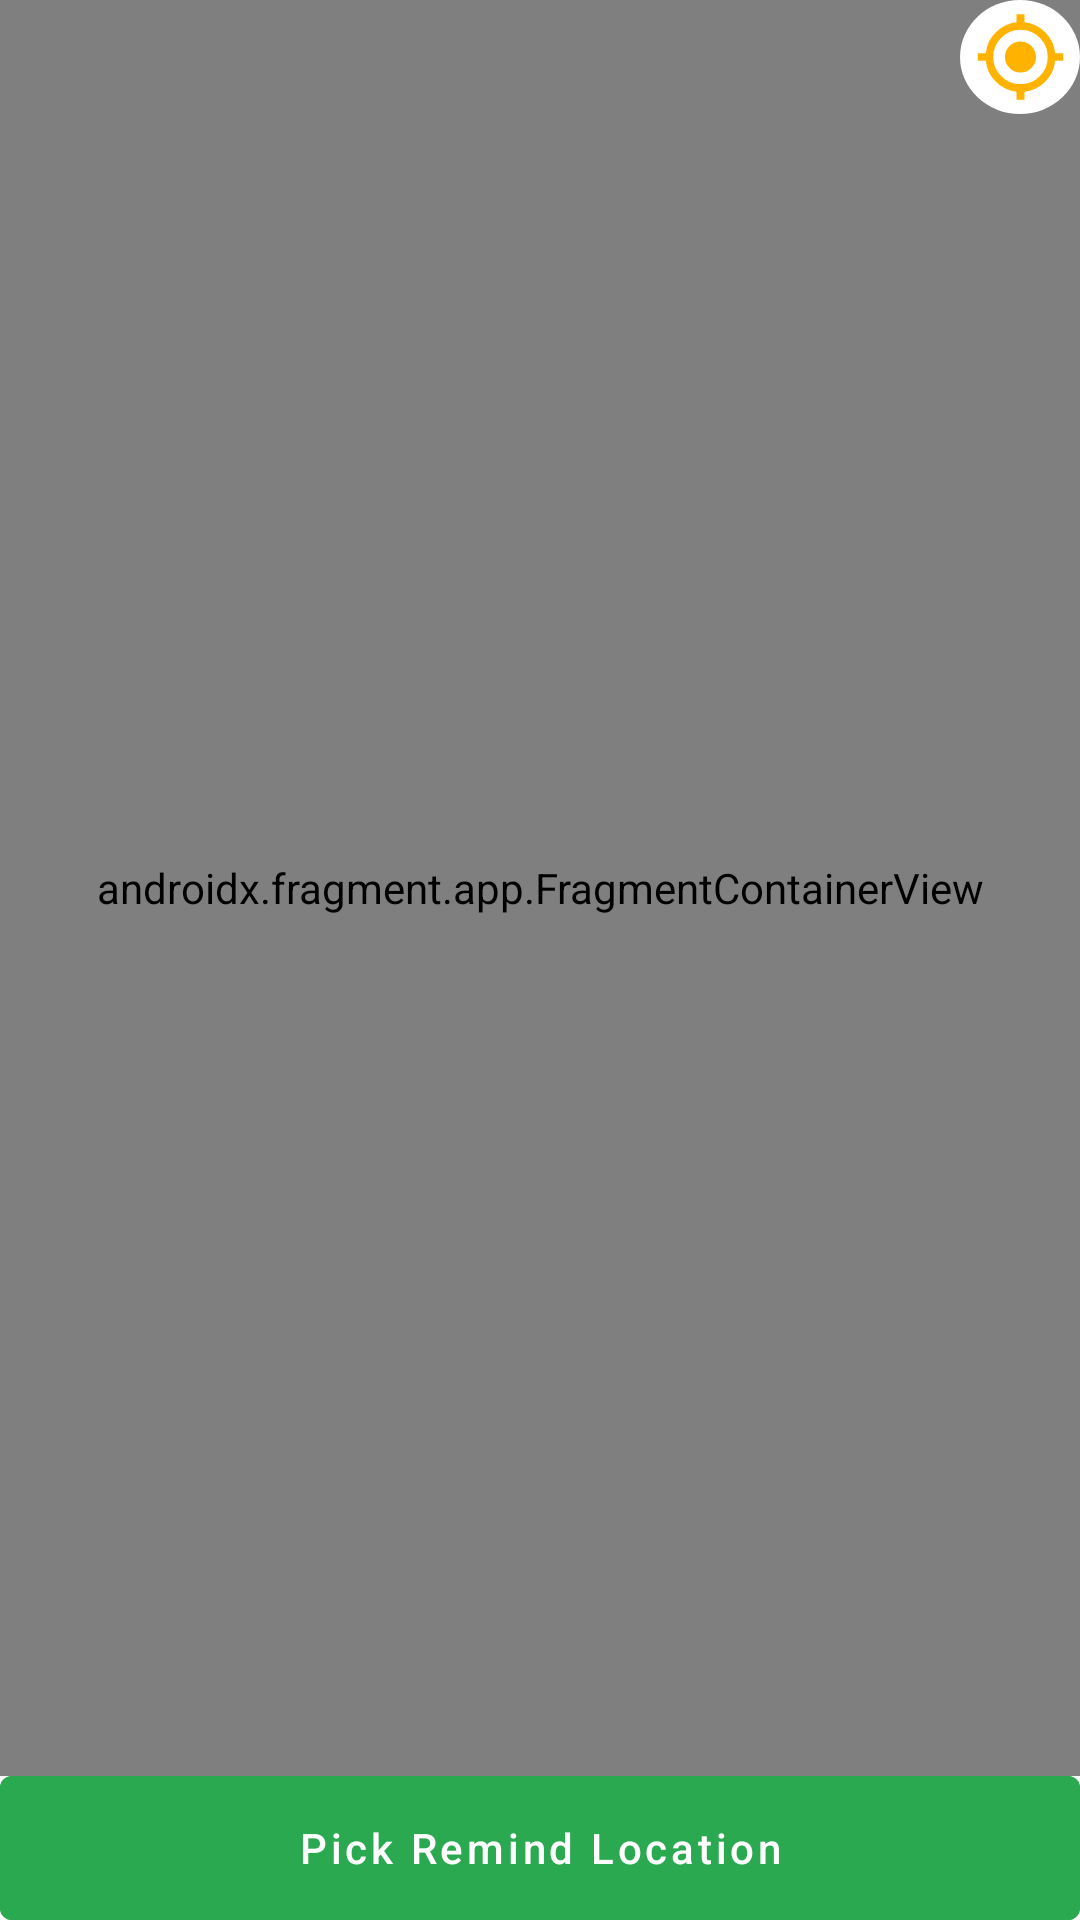

Icons on this 1080w x 1920h Android screen, each with its box as (x1, y1, x2, y2):
current location: (960, 0, 1080, 114)
